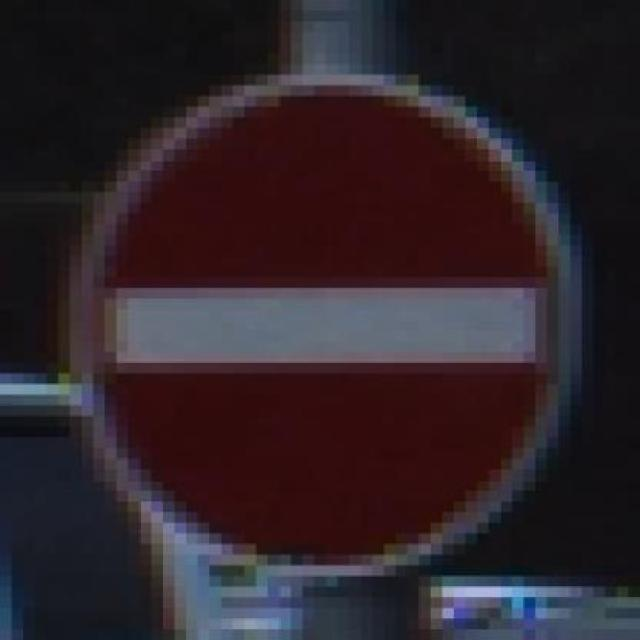No Entry: (46, 53, 594, 576)
